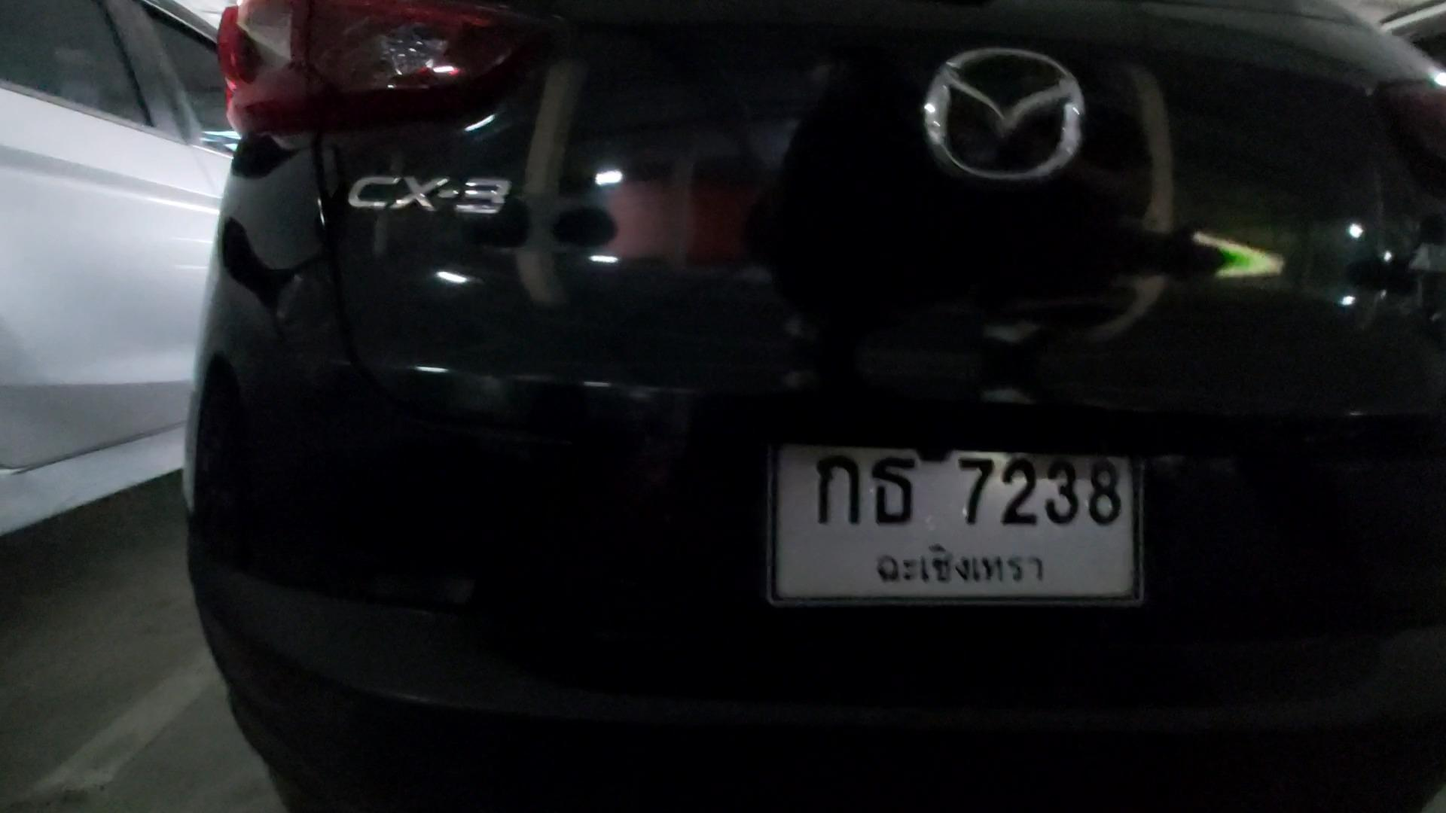license-plate: (769, 445, 1138, 604)
